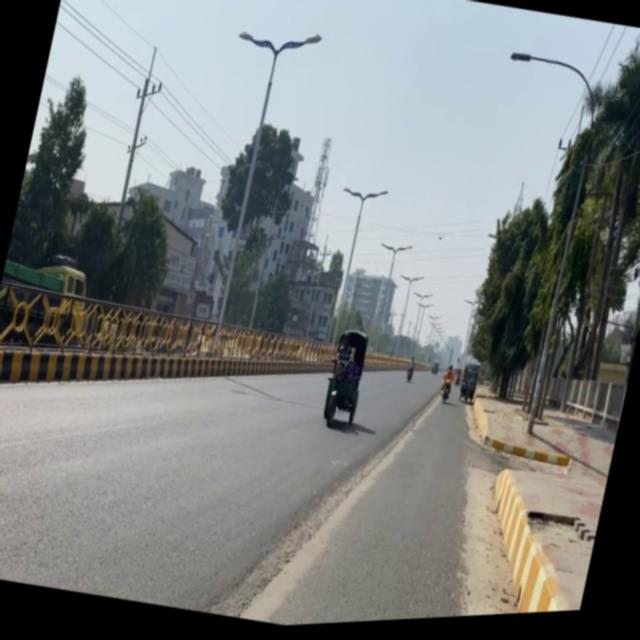Construction-barrier: (460, 395, 580, 478), (481, 436, 572, 476)
Fallen-tree: (438, 383, 452, 409)
Garbage-bin: (438, 368, 456, 402), (404, 359, 417, 387)
Pole: (0, 256, 233, 425)
Pothole: (419, 384, 620, 623)
Traffic-cone: (0, 235, 97, 351), (316, 353, 366, 437)
